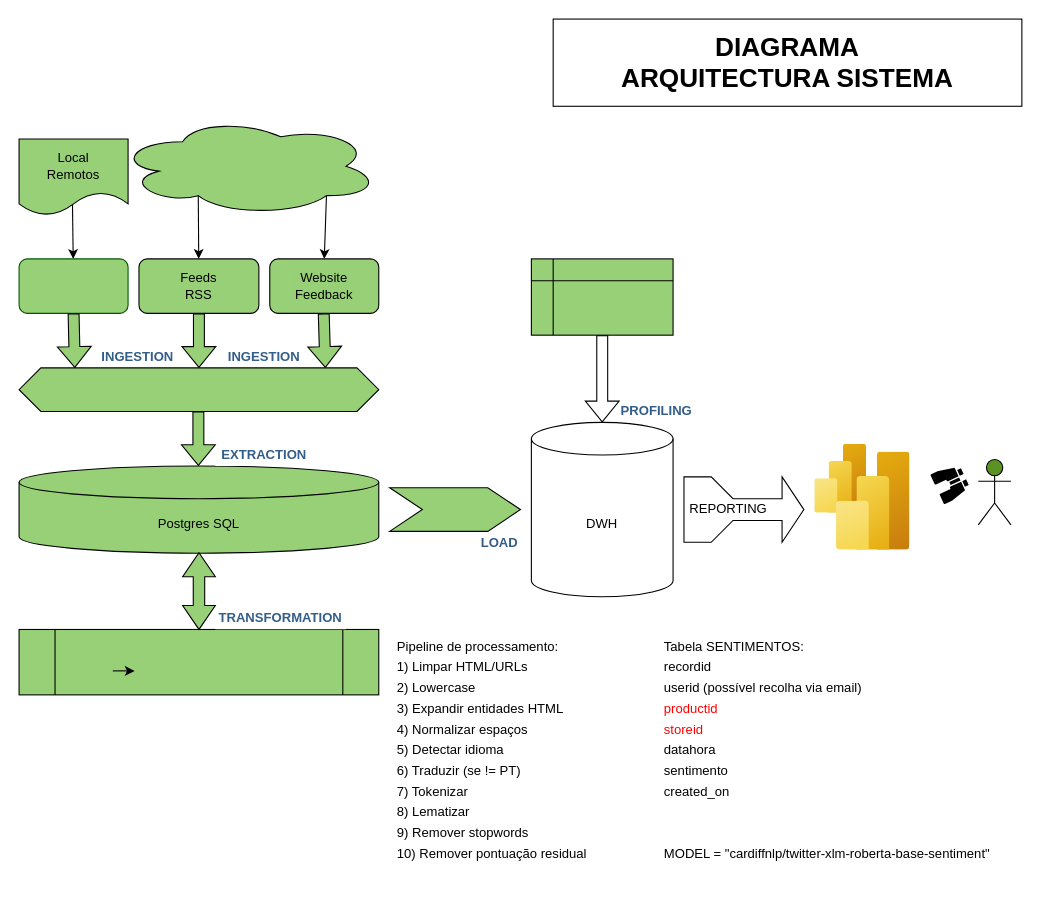
This 1041x899 diagram has some shape labels left out. The shapes that lost their labels are listed below. From the top down, each one's centre as x and y in pixels, then its label:
At point (247, 165): "Internet".
At point (73, 285): "Ficheiros CSVs".
At point (601, 296): "ERP/CRM Vendas Users".
At point (198, 389): "MongoDB".
At point (873, 501): "Power BI".
At point (994, 491): "Actor".
At point (198, 661): "Processamento Análise Sentimentos".
